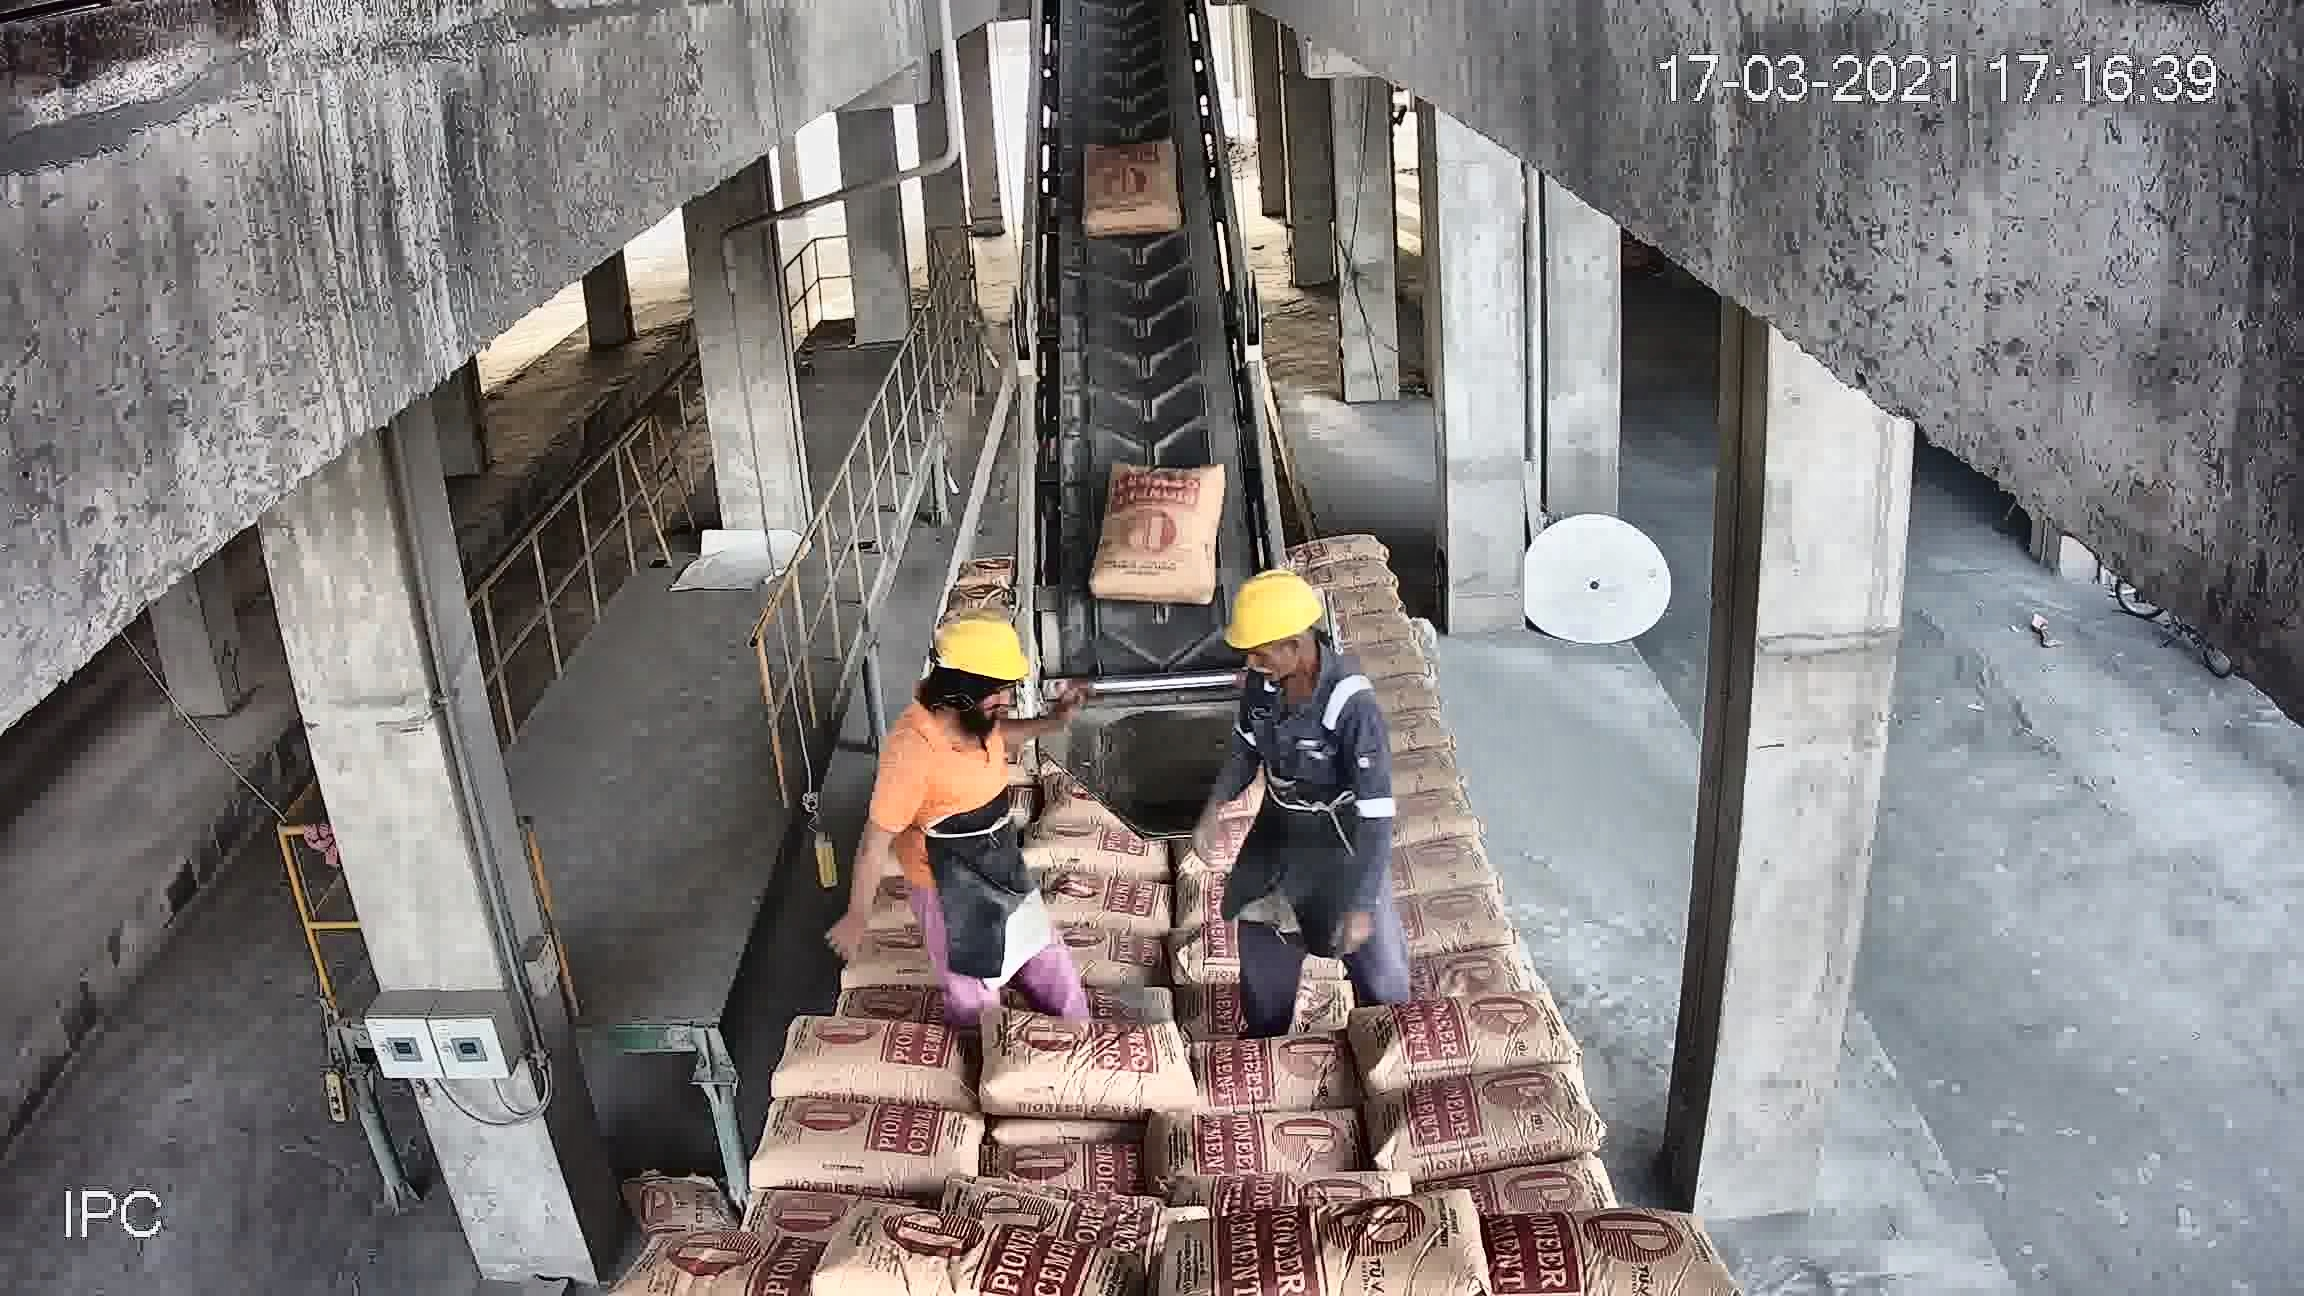bag: (1089, 464, 1228, 608), (1073, 131, 1188, 241)
bag_h: (1177, 1171, 1535, 1294), (790, 1215, 1130, 1294), (1361, 975, 1578, 1090), (1443, 1203, 1711, 1296), (747, 1101, 994, 1199), (983, 1005, 1180, 1127), (1372, 1079, 1582, 1192), (1152, 1103, 1378, 1198), (763, 1021, 980, 1108), (1163, 1032, 1359, 1114), (633, 1228, 842, 1294), (991, 1143, 1157, 1199), (1400, 932, 1537, 1000), (1393, 877, 1514, 953), (1385, 836, 1492, 891), (832, 968, 938, 1024), (1290, 533, 1397, 571), (1302, 557, 1404, 597)
belt: (1000, 41, 1298, 796)
